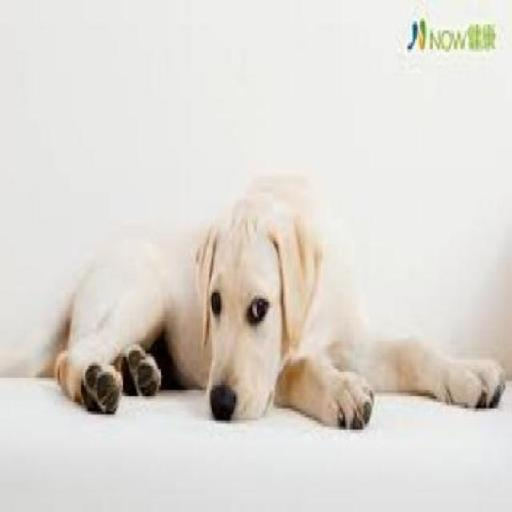Dog: (50, 197, 512, 438)
